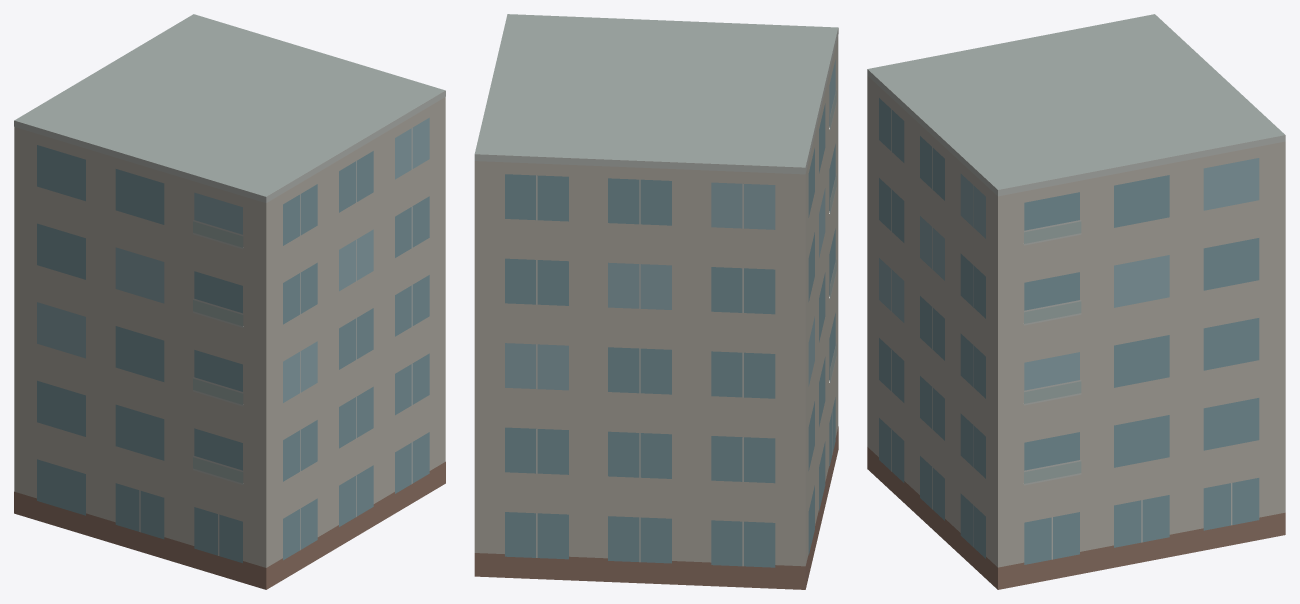
The model's file is survey-upis-32939806.glb.
3 views of the same model, side by side, from view 1: azimuth 30°, elevation 25°; view 2: azimuth 150°, elevation 25°; view 3: azimuth 270°, elevation 25° (orthographic). The views are drawn at different scales.
Parts seen in each view (by area): view 1: survey-upis-32939806.tmp; view 2: survey-upis-32939806.tmp; view 3: survey-upis-32939806.tmp.
Part boxes in pixels (x1,y1,x2,y2): survey-upis-32939806.tmp: (14,14,445,589); survey-upis-32939806.tmp: (474,14,838,589); survey-upis-32939806.tmp: (867,14,1285,589).
Bounding box in the file's own units: 14.36 × 15.2 × 14.42.
